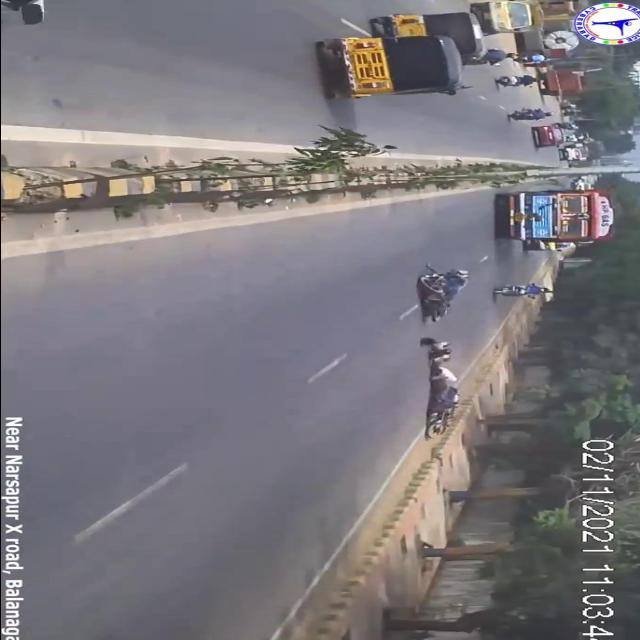accident: (399, 262, 493, 442)
non_accident: (302, 4, 526, 108), (491, 185, 625, 261), (541, 136, 615, 168)
